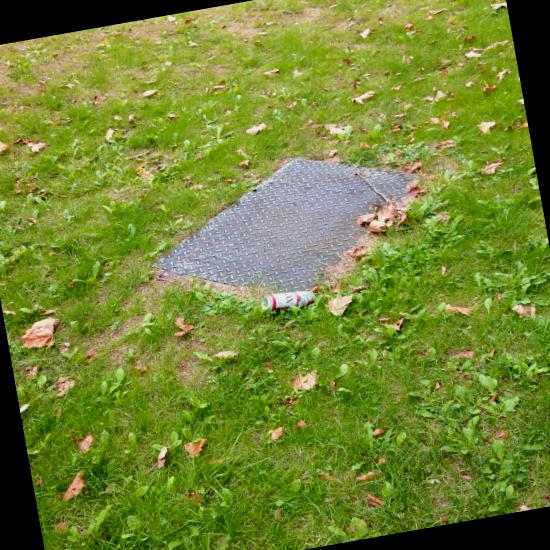Other carton: (305, 145, 354, 170)
